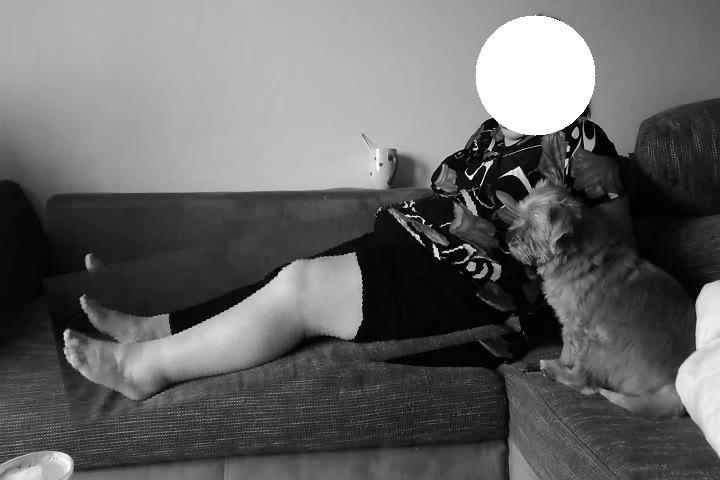lower_body: (48, 207, 517, 404)
